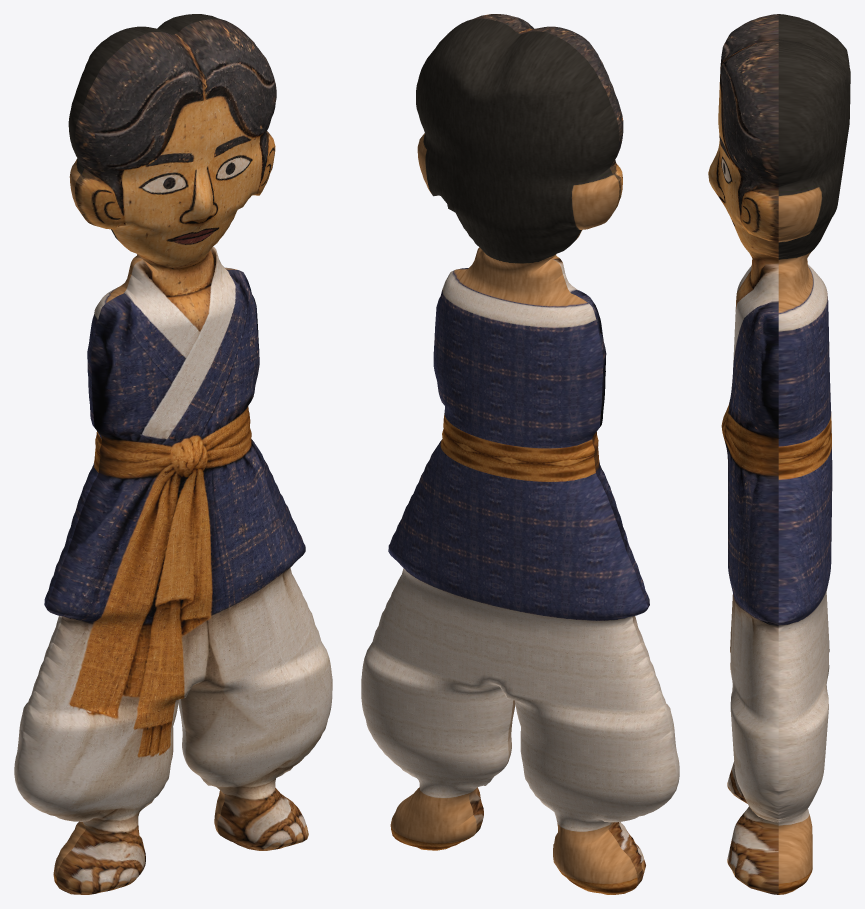
3 views of the same model, side by side, from view 1: azimuth 30°, elevation 25°; view 2: azimuth 150°, elevation 25°; view 3: azimuth 270°, elevation 25° (orthographic). The views are drawn at different scales.
Parts seen in each view (by area): view 1: Doll; view 2: Doll; view 3: Doll.
Part boxes in pixels (x1,y1,x2,y2): Doll: (14, 14, 332, 894); Doll: (361, 14, 679, 894); Doll: (708, 14, 850, 894).
Bounding box in the file's own units: 0.5748 × 1.48 × 0.2356.
2 materials, 2 textured.
